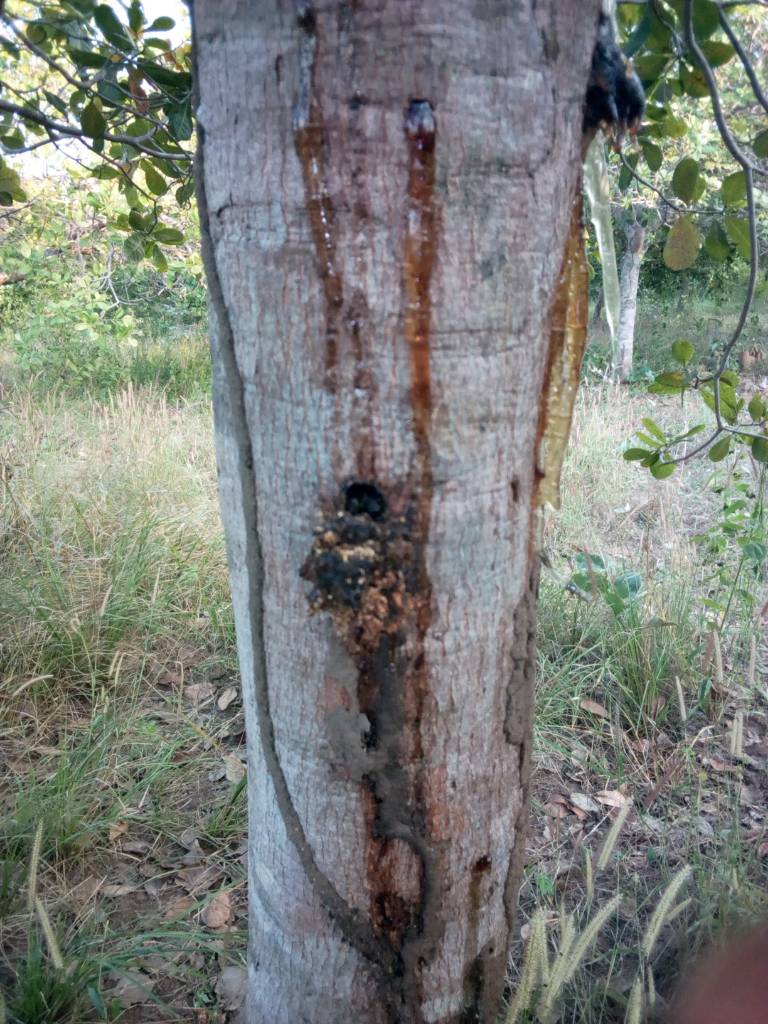Apate terebrans: (330, 467, 422, 575)
